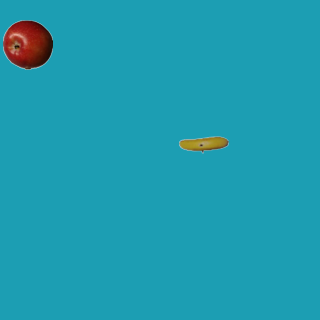Apple Braeburn: (2, 19, 52, 69)
Banana: (178, 119, 228, 169)
